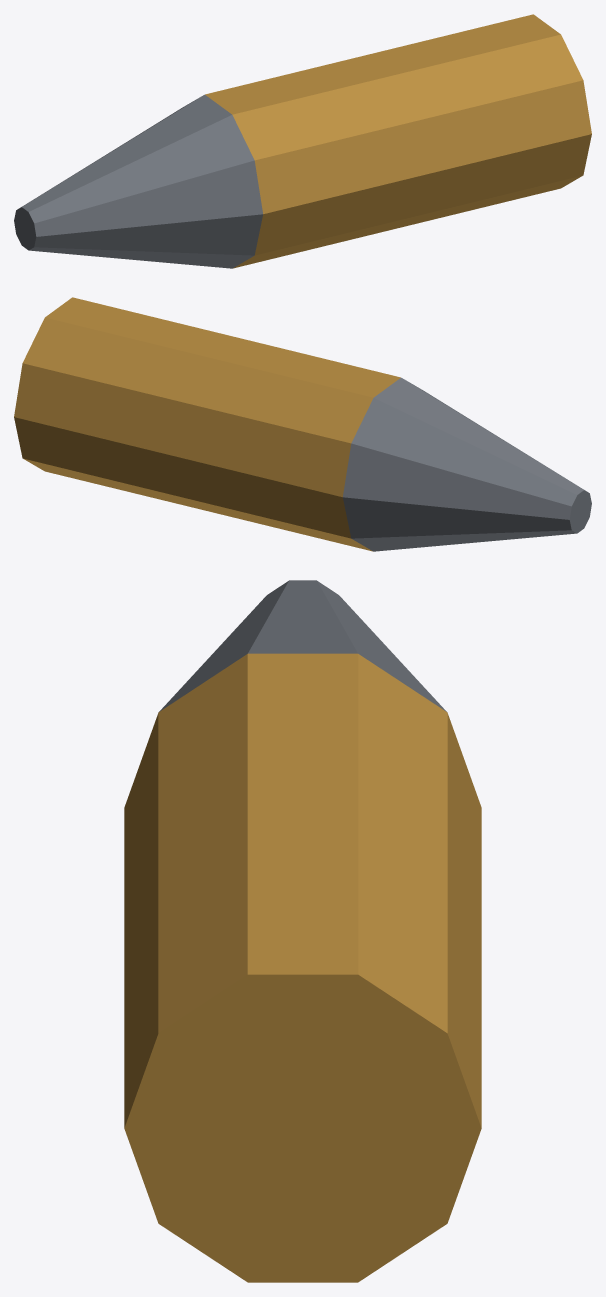
3 views of the same model, one above another, from view 1: azimuth 30°, elevation 25°; view 2: azimuth 150°, elevation 25°; view 3: azimuth 270°, elevation 25° (orthographic). The views are drawn at different scales.
Visible parts, largest first — view 1: B_762x54R_Body, B_762x54R_Tip; view 2: B_762x54R_Body, B_762x54R_Tip; view 3: B_762x54R_Body, B_762x54R_Tip.
Boxes of the visible parts, x1=… form: B_762x54R_Body: x1=205, y1=14, x2=591, y2=268; B_762x54R_Tip: x1=14, y1=94, x2=263, y2=268; B_762x54R_Body: x1=14, y1=297, x2=400, y2=551; B_762x54R_Tip: x1=342, y1=377, x2=591, y2=551; B_762x54R_Body: x1=124, y1=653, x2=481, y2=1282; B_762x54R_Tip: x1=158, y1=580, x2=447, y2=712.
Size of the model in its own units: 0.054 by 0.0152 by 0.016.
